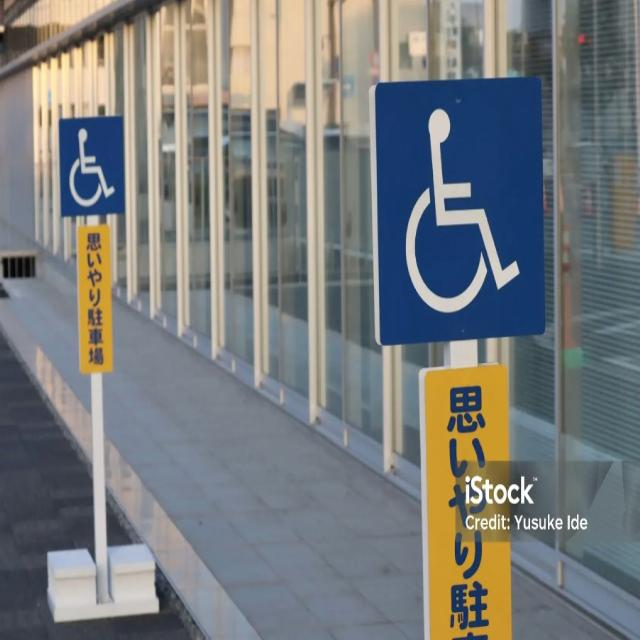symbol_of_access: (372, 71, 547, 345), (56, 111, 128, 219)
